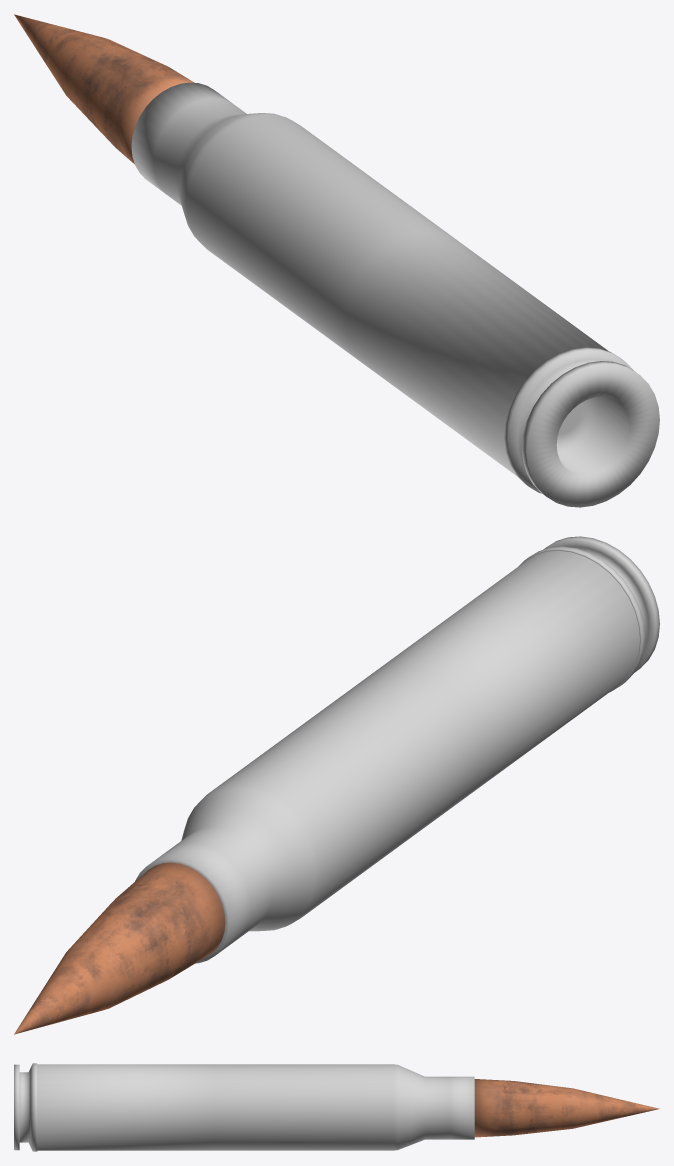
Rendered from Bala.fbx.
3 views of the same model, one above another, from view 1: azimuth 30°, elevation 25°; view 2: azimuth 150°, elevation 25°; view 3: azimuth 270°, elevation 25° (orthographic). The views are drawn at different scales.
Visible parts, largest first — view 1: Cylinder, Cylinder.001; view 2: Cylinder, Cylinder.001; view 3: Cylinder, Cylinder.001.
Boxes of the visible parts, x1,y1,x2,y2 form: Cylinder: [131, 82, 659, 507]; Cylinder.001: [14, 14, 194, 164]; Cylinder: [135, 536, 659, 963]; Cylinder.001: [14, 862, 225, 1034]; Cylinder: [14, 1063, 474, 1151]; Cylinder.001: [474, 1079, 659, 1137].
Size of the model in its own units: 8.94 by 8.94 by 65.46.
